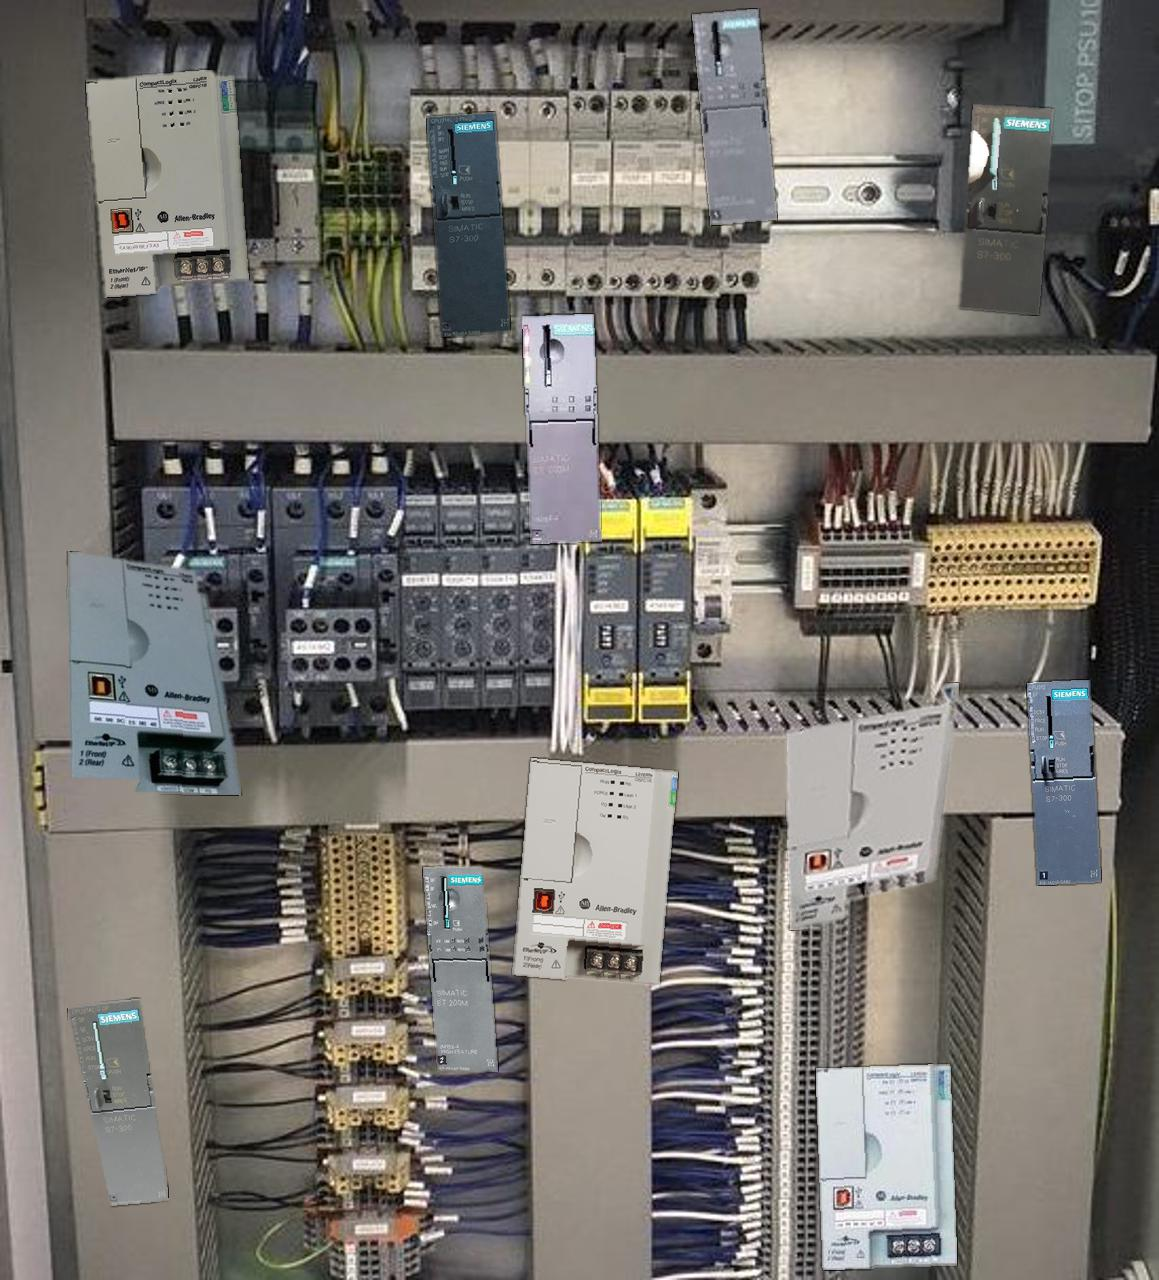AllenBradley: (786, 683, 958, 929), (68, 551, 240, 795), (513, 758, 677, 985), (86, 70, 248, 297), (817, 1064, 956, 1269)
Siemens: (68, 999, 168, 1205), (959, 104, 1053, 314), (426, 111, 509, 336), (1027, 680, 1100, 885)
